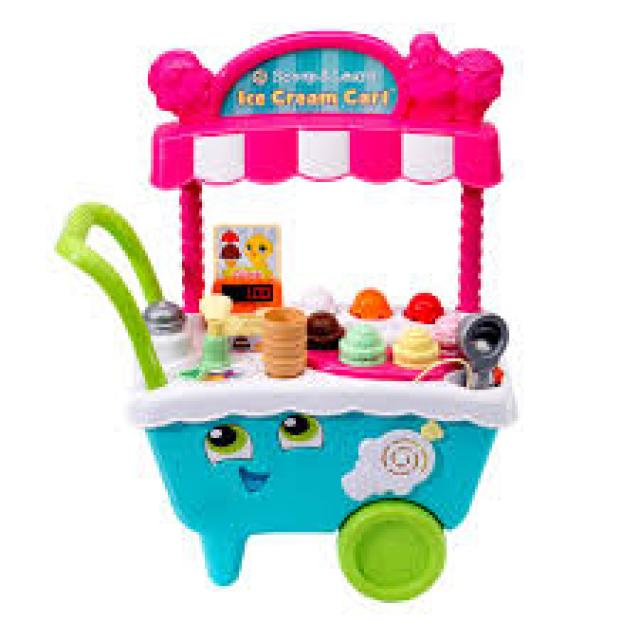Dry: (62, 27, 528, 603)
